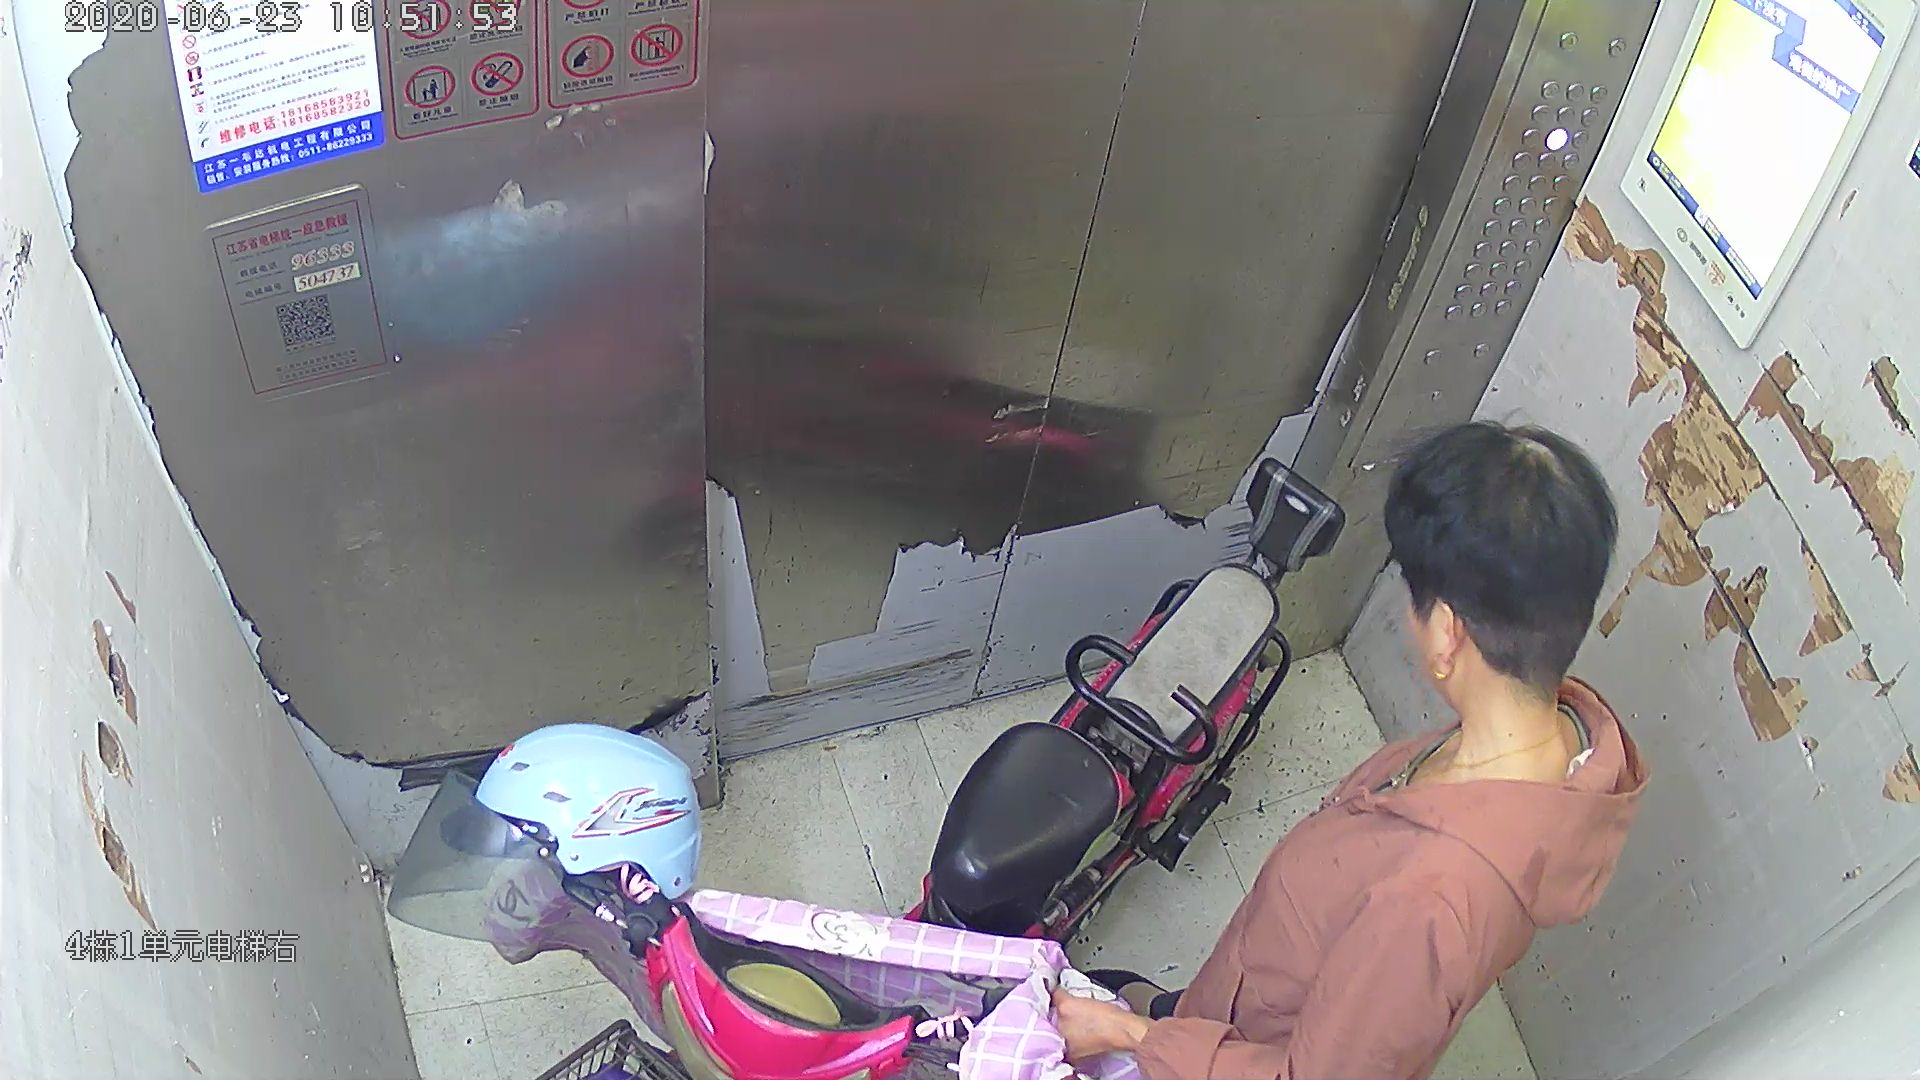Electric-bicycle: (438, 455, 1338, 1080)
